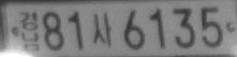1: (147, 7, 170, 49), (66, 10, 87, 50)
3: (171, 7, 196, 49)
5: (199, 6, 223, 48)
6: (122, 8, 146, 50)
8: (42, 10, 65, 51)
경남_V: (18, 10, 41, 52)
사: (91, 11, 112, 47)
